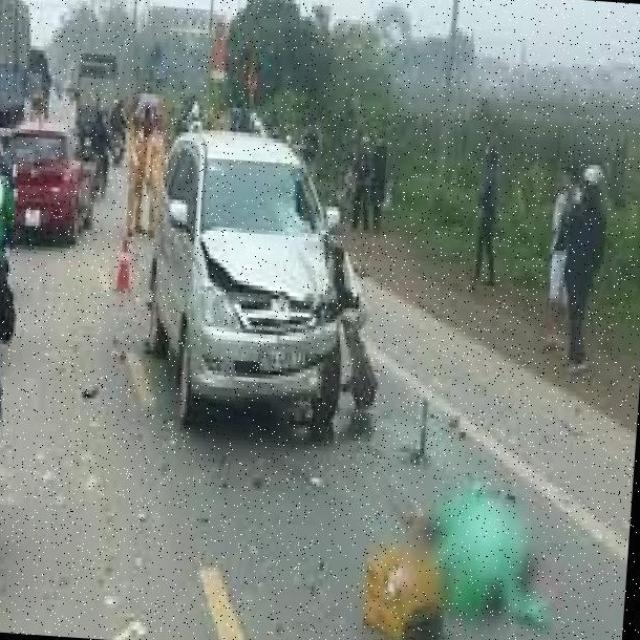accident: (150, 127, 413, 487)
